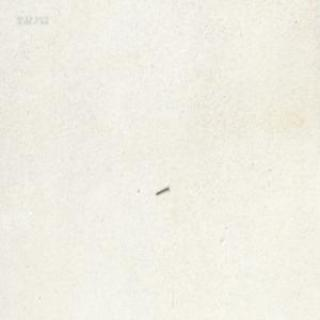Bolttrack_idkeyframe: (154, 183, 168, 194)
